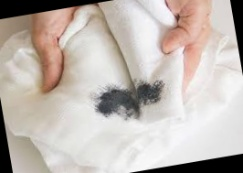ink: (93, 78, 167, 119)
